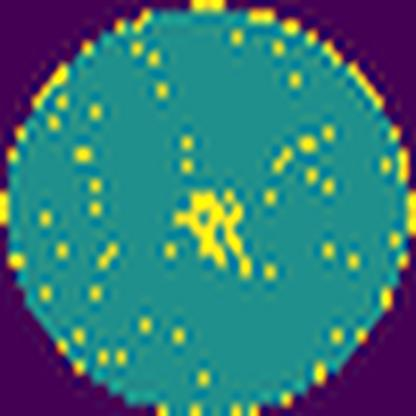Center: (174, 191, 249, 276)
